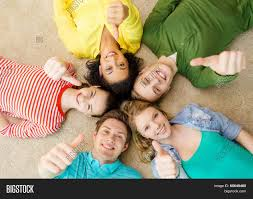no-mask: (124, 100, 174, 144), (93, 113, 132, 164), (131, 60, 177, 102), (96, 44, 133, 89), (70, 83, 110, 120)
